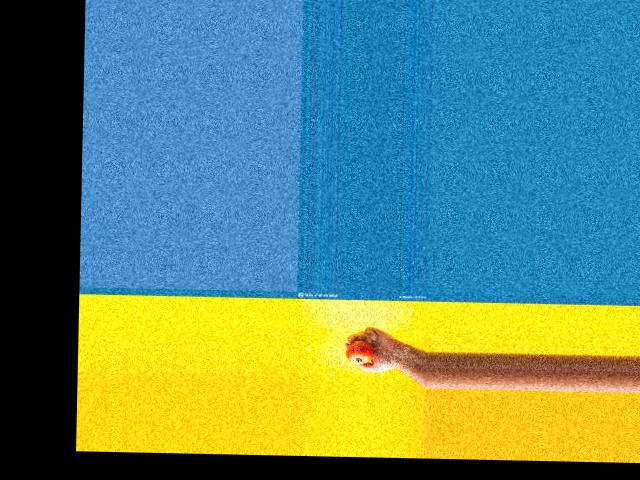tomato: (346, 340, 374, 363)
